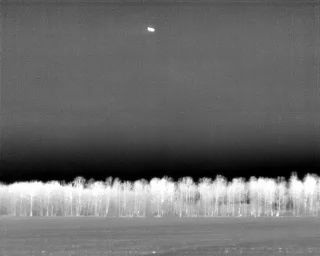DRONE: (144, 23, 158, 37)
